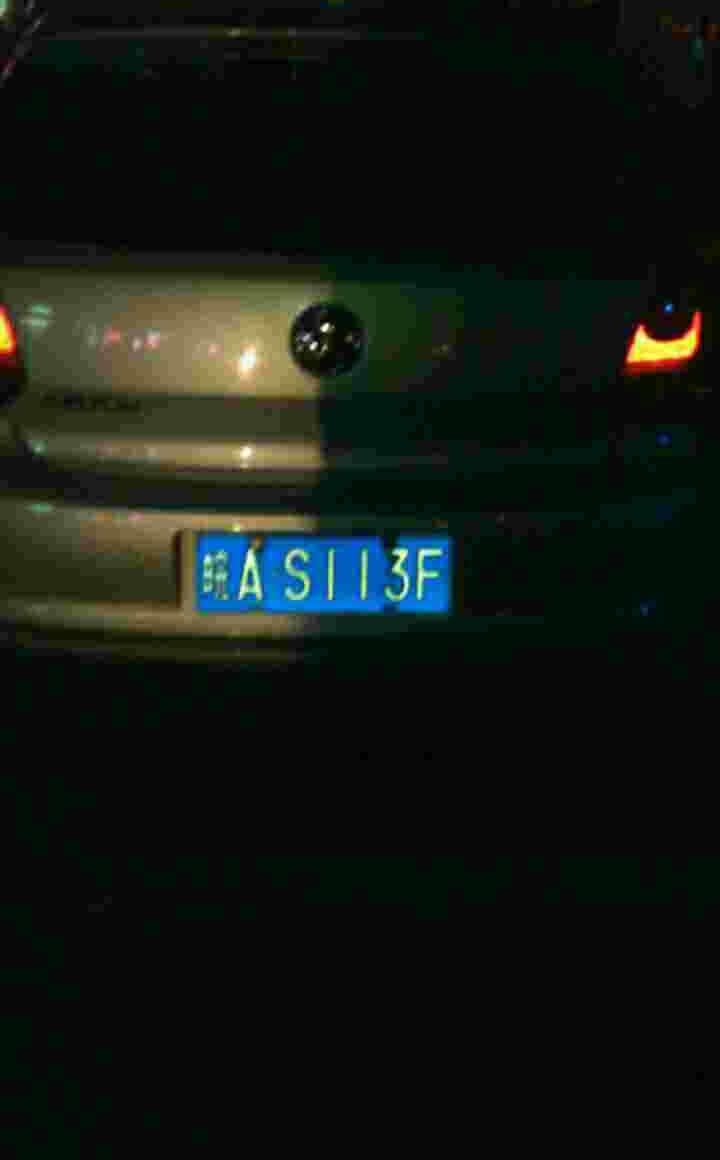license_plate: (198, 532, 455, 623)
